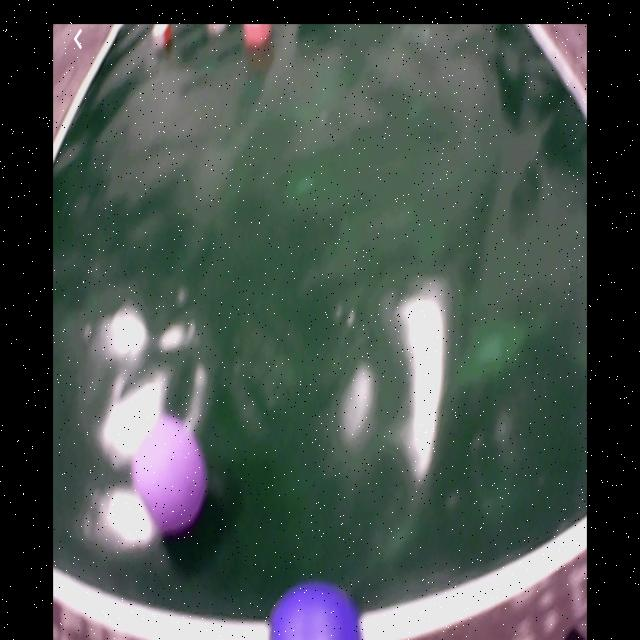ball: (134, 415, 207, 536), (266, 581, 364, 640)
